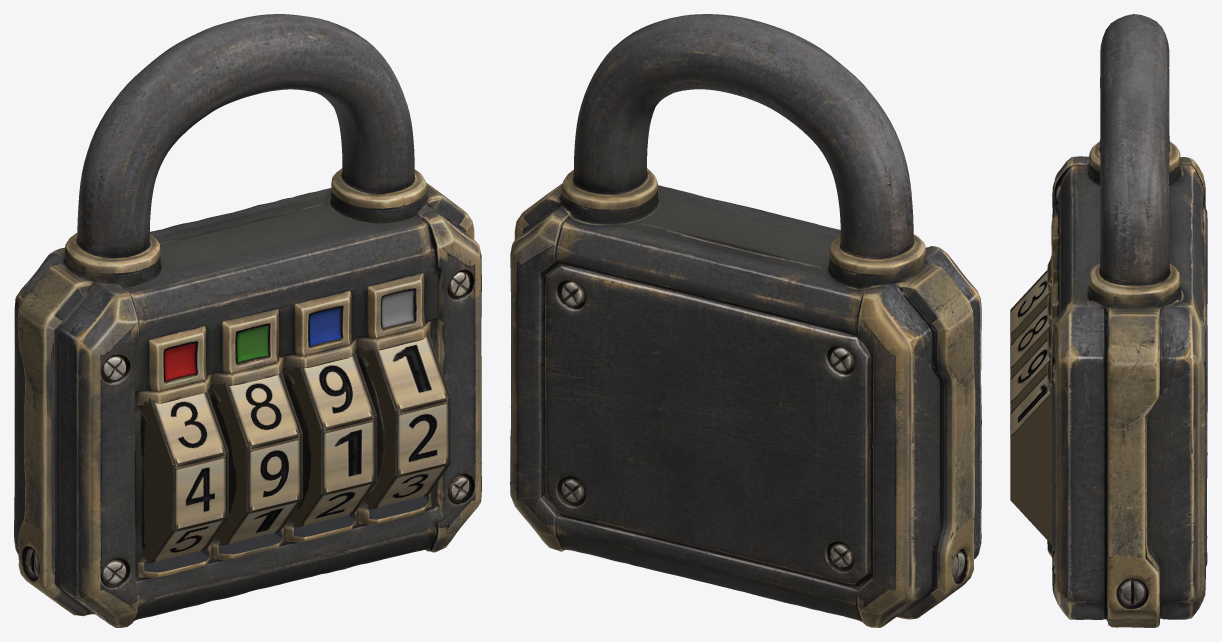
The model's file is Lock_02_Animated.fbx.
The picture shows the model from 3 angles, left to right: view 1: azimuth 30°, elevation 25°; view 2: azimuth 150°, elevation 25°; view 3: azimuth 270°, elevation 25°; orthographic projection. The views are drawn at different scales.
Parts seen in each view (by area): view 1: Lock_Body, Lock_Head, Dial_01, Dial_02, Dial_04, Dial_03; view 2: Lock_Body, Lock_Head; view 3: Lock_Body, Lock_Head, Dial_04, Dial_03, Dial_01, Dial_02.
Part boxes in pixels (x1=…): Lock_Body: x1=14, y1=168, x2=481, y2=627; Lock_Head: x1=77, y1=14, x2=414, y2=256; Dial_01: x1=140, y1=390, x2=228, y2=563; Dial_02: x1=212, y1=369, x2=302, y2=545; Dial_04: x1=361, y1=330, x2=451, y2=509; Dial_03: x1=287, y1=350, x2=377, y2=527; Lock_Body: x1=510, y1=168, x2=981, y2=627; Lock_Head: x1=573, y1=14, x2=913, y2=258; Lock_Body: x1=1047, y1=141, x2=1207, y2=627; Lock_Head: x1=1100, y1=14, x2=1169, y2=284; Dial_04: x1=1010, y1=372, x2=1052, y2=544; Dial_03: x1=1010, y1=338, x2=1049, y2=411; Dial_01: x1=1010, y1=270, x2=1049, y2=343; Dial_02: x1=1010, y1=304, x2=1049, y2=377.
Bounding box in the file's own units: 81.64 × 97.86 × 34.22.
Materials: 5 (2 with a texture image).
